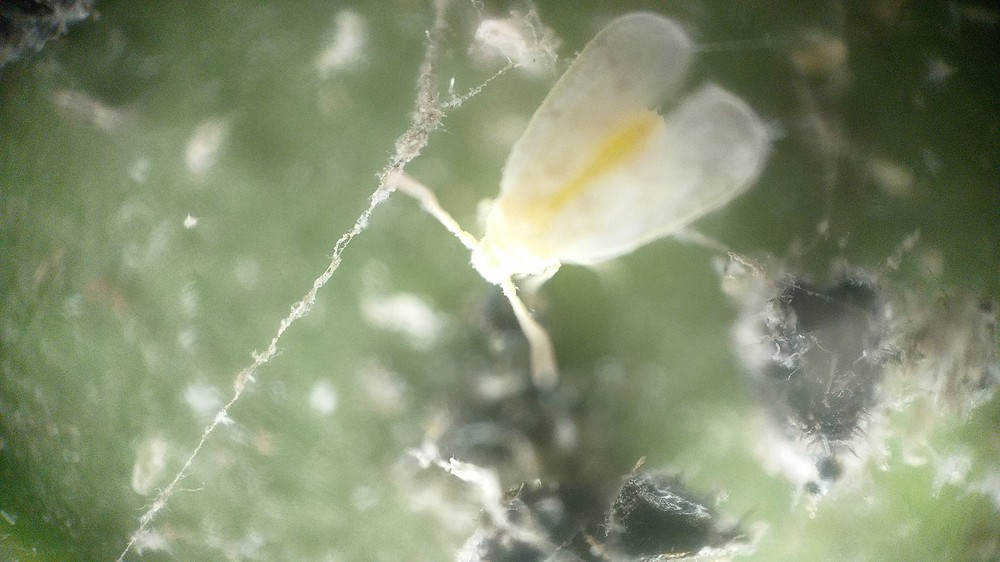Mosca Blanca: (381, 15, 813, 392)
